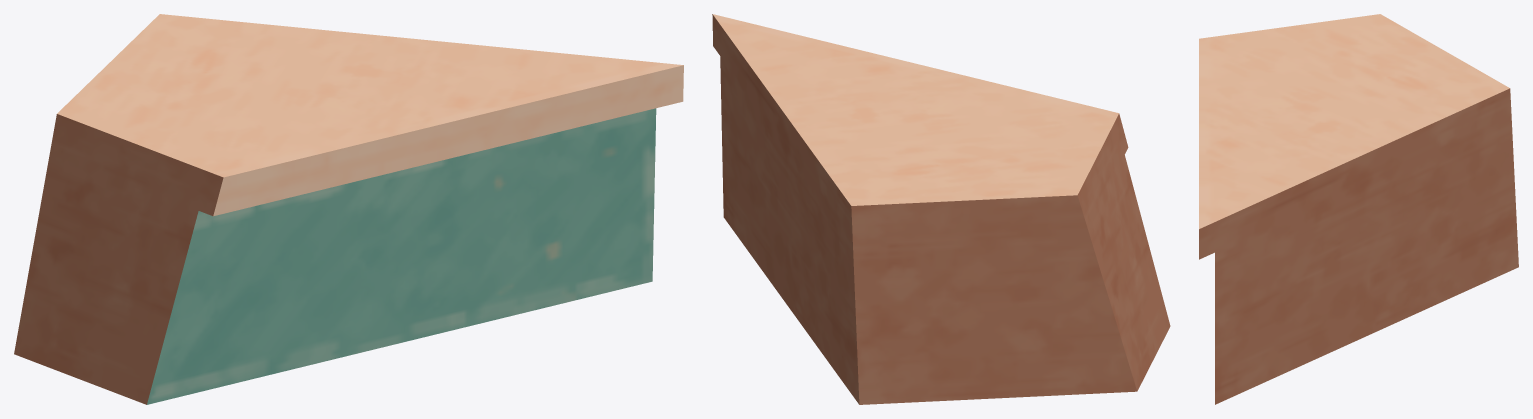
File: palm_bed_s03.fbx
3 renders of one model, left to right at view 1: azimuth 30°, elevation 25°; view 2: azimuth 150°, elevation 25°; view 3: azimuth 270°, elevation 25°, orthographic. The views are drawn at different scales.
Visible parts, largest first — view 1: palm_bed_s03; view 2: palm_bed_s03; view 3: palm_bed_s03.
Boxes of the visible parts, x1,y1,x2,y2 form: palm_bed_s03: [14, 14, 683, 404]; palm_bed_s03: [712, 14, 1170, 404]; palm_bed_s03: [1199, 14, 1518, 404].
Size of the model in its own units: 4.97 by 1.8 by 2.82.
